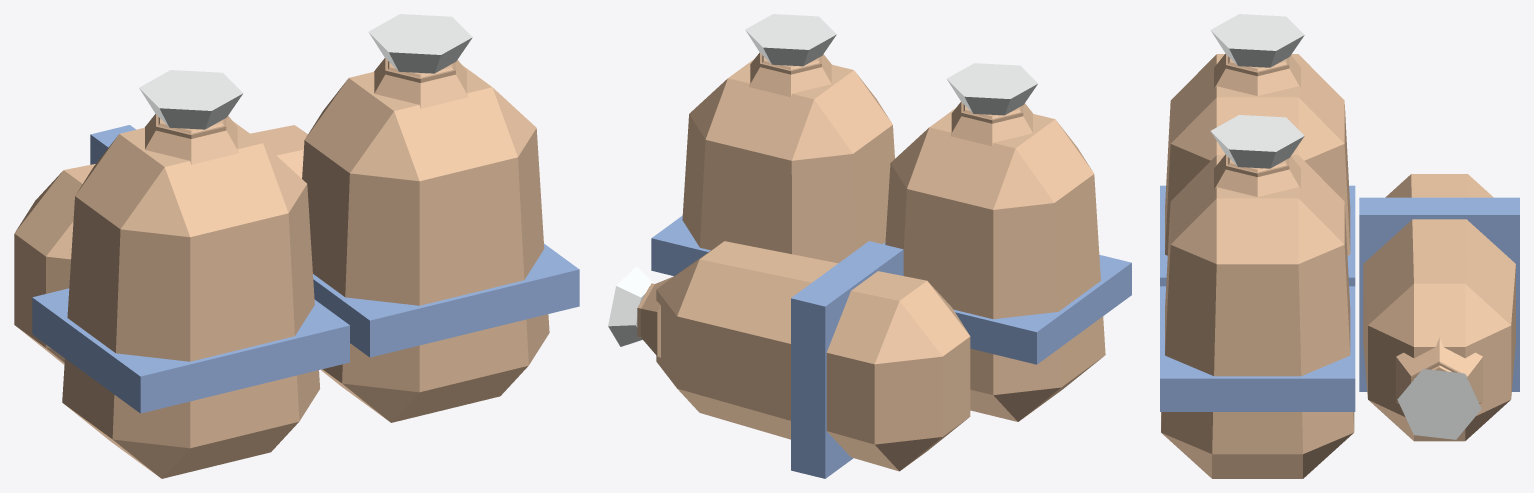
Rendered from flour_sacks.glb.
The picture shows the model from 3 angles, left to right: view 1: azimuth 30°, elevation 25°; view 2: azimuth 150°, elevation 25°; view 3: azimuth 270°, elevation 25°; orthographic projection. The views are drawn at different scales.
Visible parts, largest first — view 1: FlourSacks; view 2: FlourSacks; view 3: FlourSacks.
Boxes of the visible parts, x1=… form: FlourSacks: x1=14, y1=14, x2=579, y2=478; FlourSacks: x1=608, y1=14, x2=1131, y2=478; FlourSacks: x1=1160, y1=14, x2=1519, y2=478.
Bounding box in the file's own units: 0.4457 × 0.347 × 0.3511.
